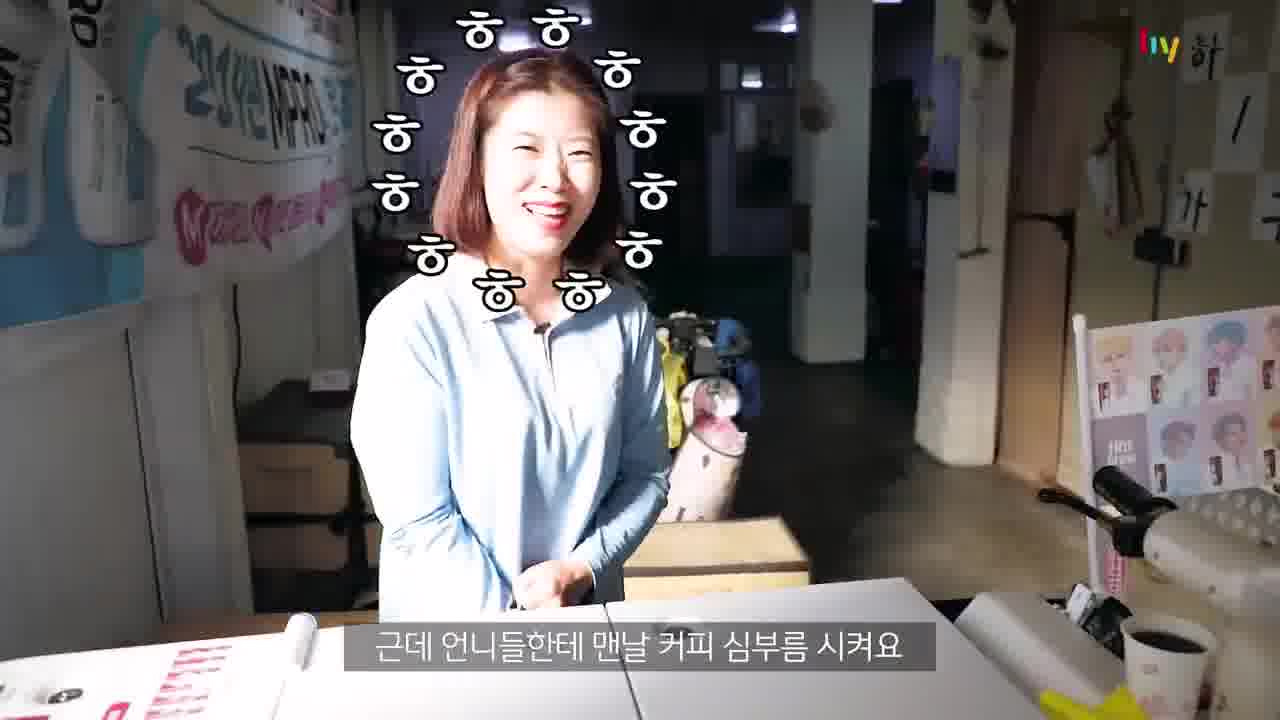Yakurut: (310, 52, 759, 633)
